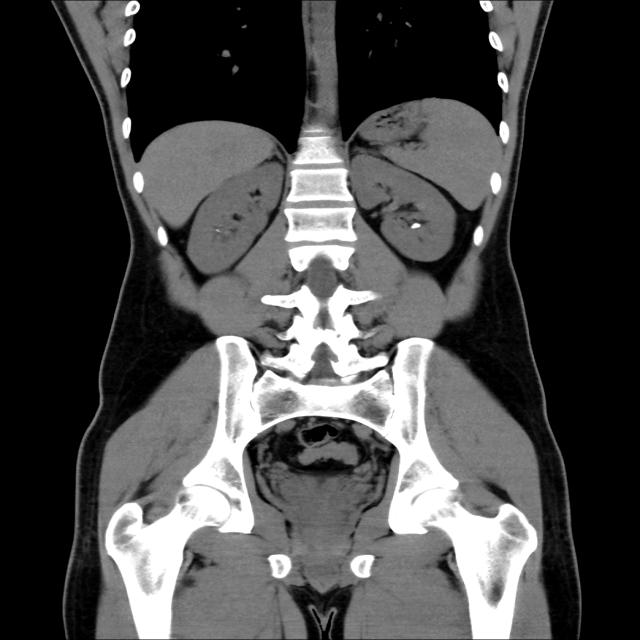kidneystone: (410, 222, 422, 229)
